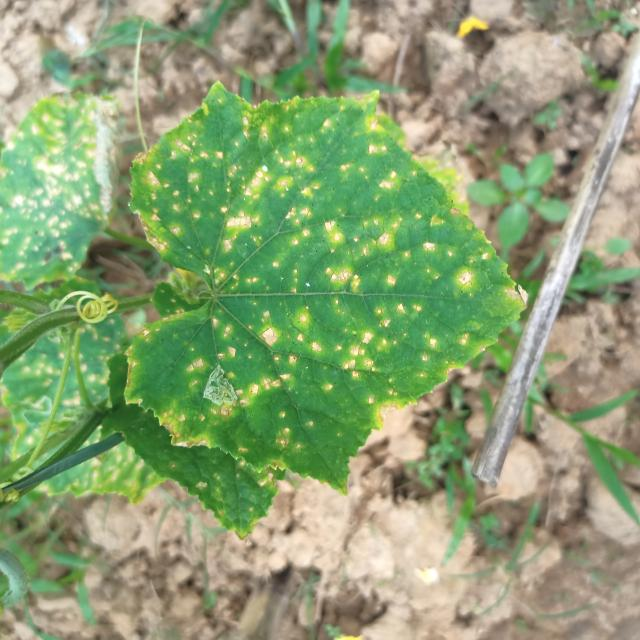disease_cucumber: (132, 93, 508, 460)
